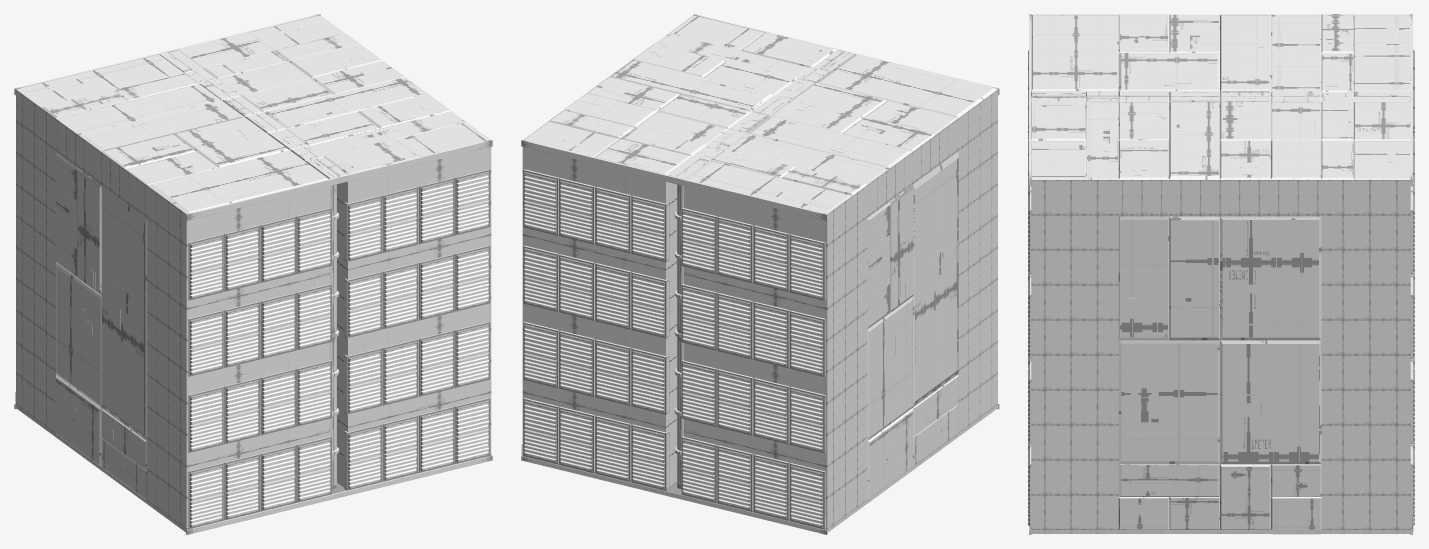
The model's file is DateCube_02_remade.fbx.
The picture shows the model from 3 angles, left to right: view 1: azimuth 30°, elevation 25°; view 2: azimuth 150°, elevation 25°; view 3: azimuth 270°, elevation 25°; orthographic projection. The views are drawn at different scales.
Parts seen in each view (by area): view 1: DataCube_02; view 2: DataCube_02; view 3: DataCube_02.
Part boxes in pixels (box(x1,y1,x2,y2)): DataCube_02: box(14, 14, 492, 534); DataCube_02: box(521, 14, 999, 534); DataCube_02: box(1028, 14, 1414, 534).
Bounding box in the file's own units: 2020 × 2020 × 1980.
Materials: 1 (1 with a texture image).
